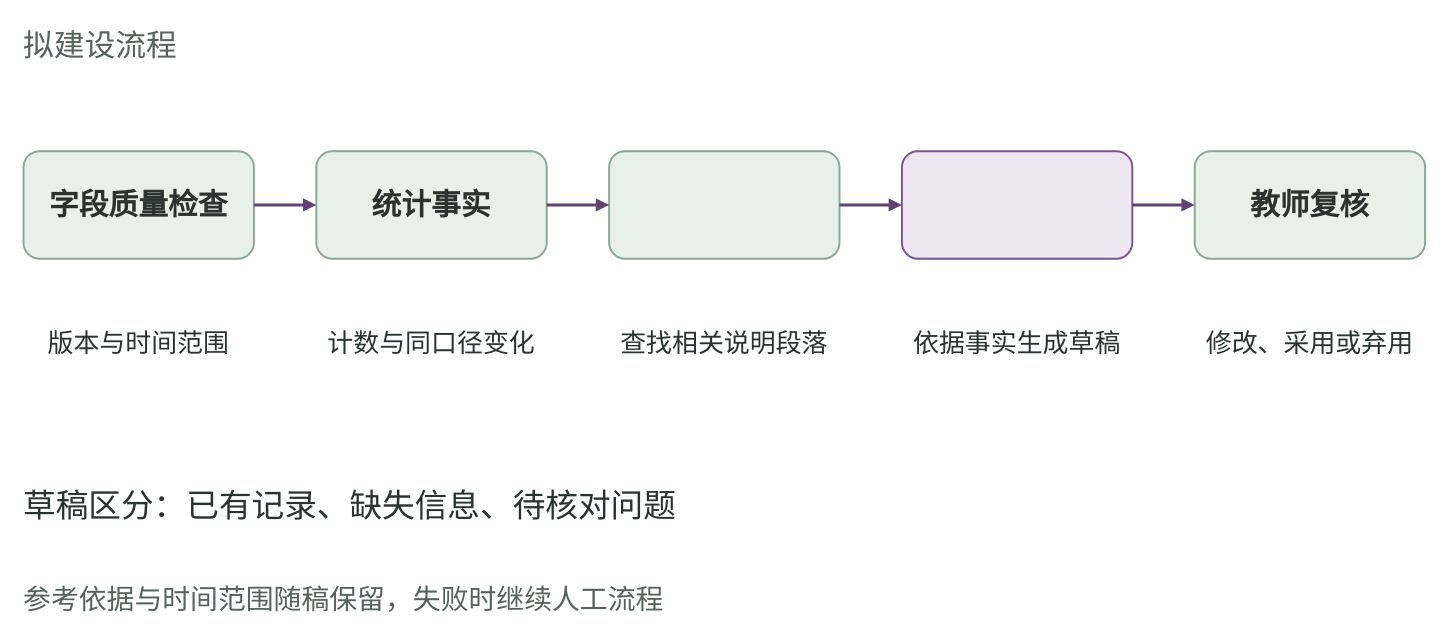
The diagram is 1448 pixels wide and 644 high, and some of its shapes have lost their labels. The shapes that lost their labels are listed below. From the top down, each one's centre as x and y in pixels, then its label:
(724,204): 审核资料检索
(1016,204): 大模型起草
